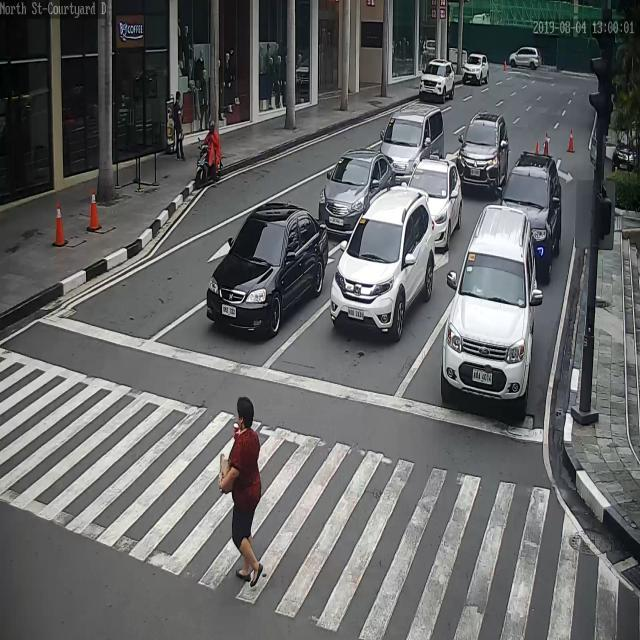car: (444, 208, 538, 408), (326, 188, 441, 335), (208, 203, 328, 339), (499, 149, 561, 270), (318, 149, 397, 230), (403, 159, 465, 251), (453, 113, 512, 190), (418, 60, 455, 105), (506, 48, 544, 71), (462, 53, 490, 84)
jeepney: (198, 125, 224, 190), (612, 131, 639, 175)
van: (376, 104, 448, 178)
